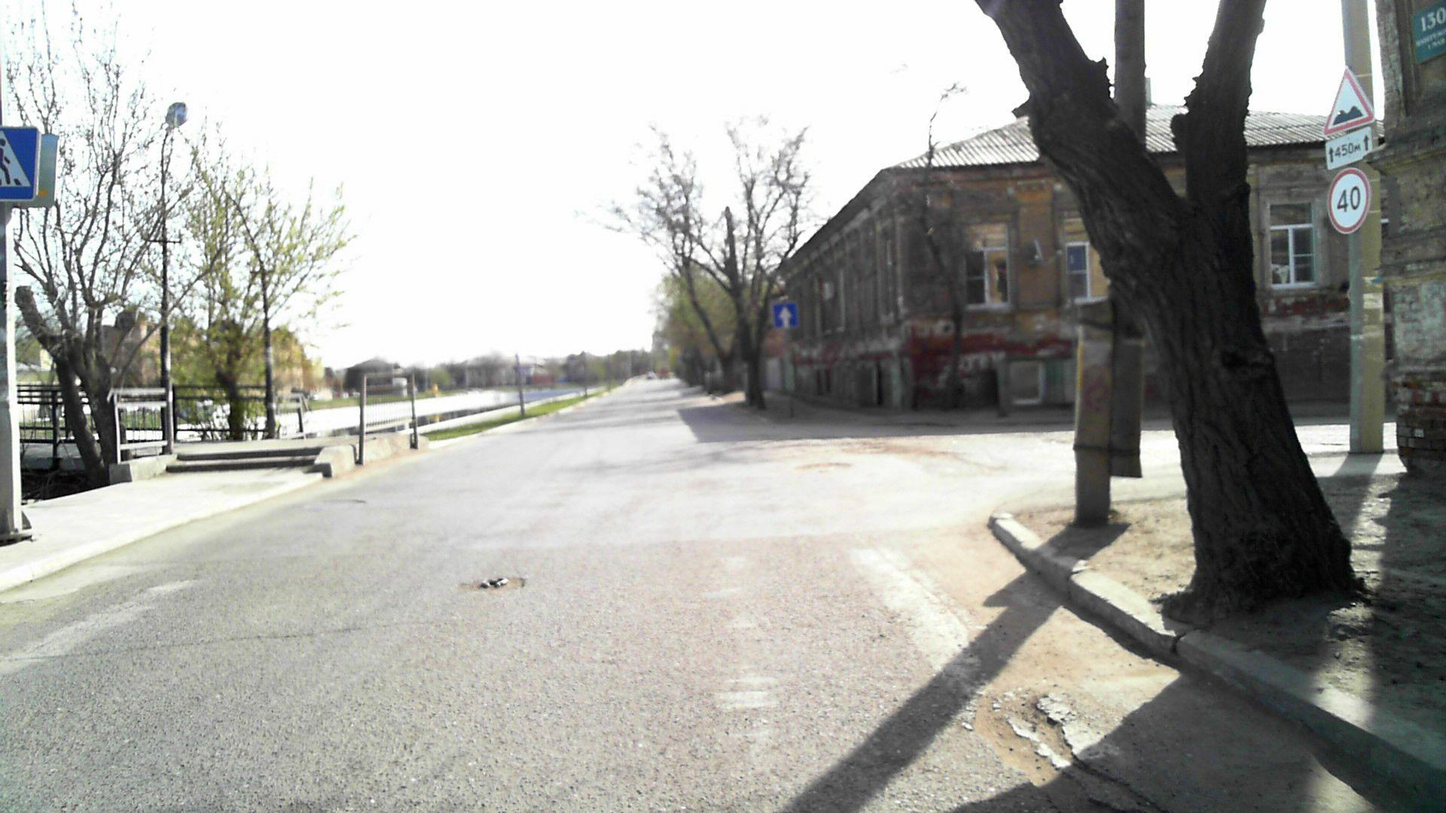obstructed_road_sign: (0, 128, 36, 201)
road_sign: (1324, 67, 1376, 135), (1327, 168, 1369, 233), (1325, 125, 1375, 170), (771, 301, 801, 331)
